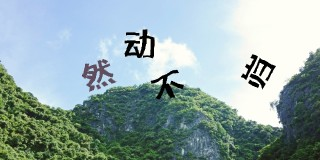不: (150, 69, 184, 100)
动: (124, 28, 155, 59)
岿: (240, 54, 276, 89)
然: (81, 59, 116, 92)
